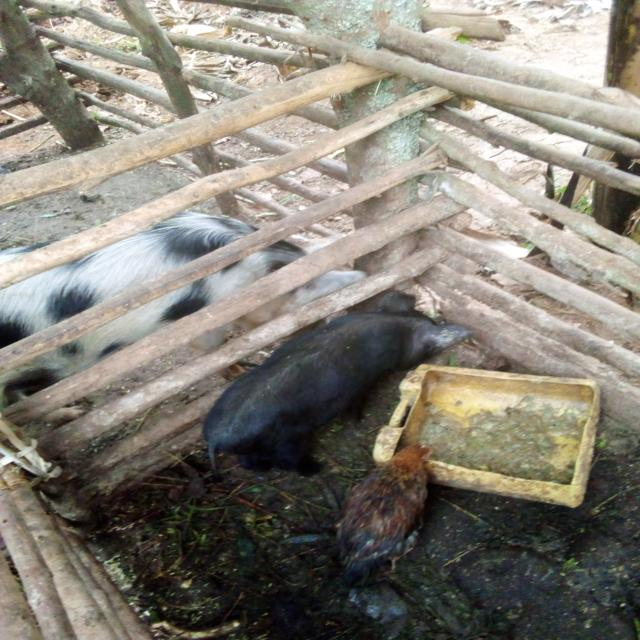pig: (142, 265, 507, 521)
